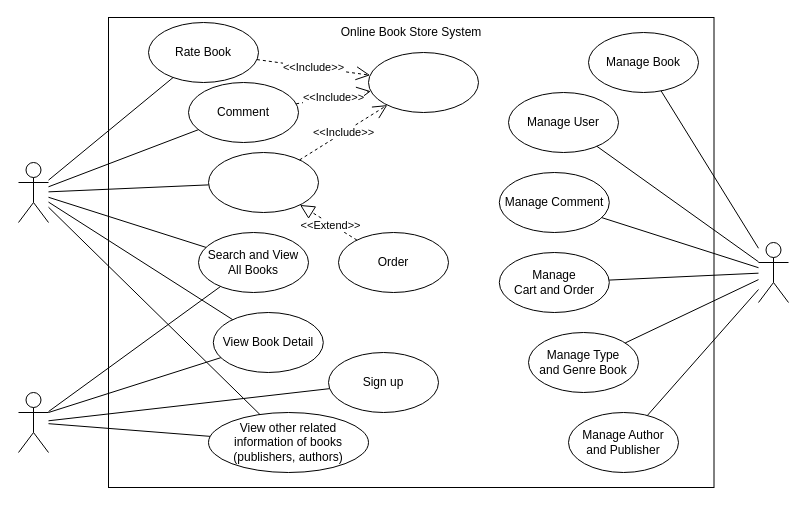
Some shapes in this 807 by 505 pixel diagram are drawn without their labels. Here are the shapes that lost their labels. From the top down, the centre of each, then its label:
the point at 423,82: Login
the point at 33,192: User
the point at 263,182: Add to cart
the point at 773,272: Admin
the point at 33,422: Guest
